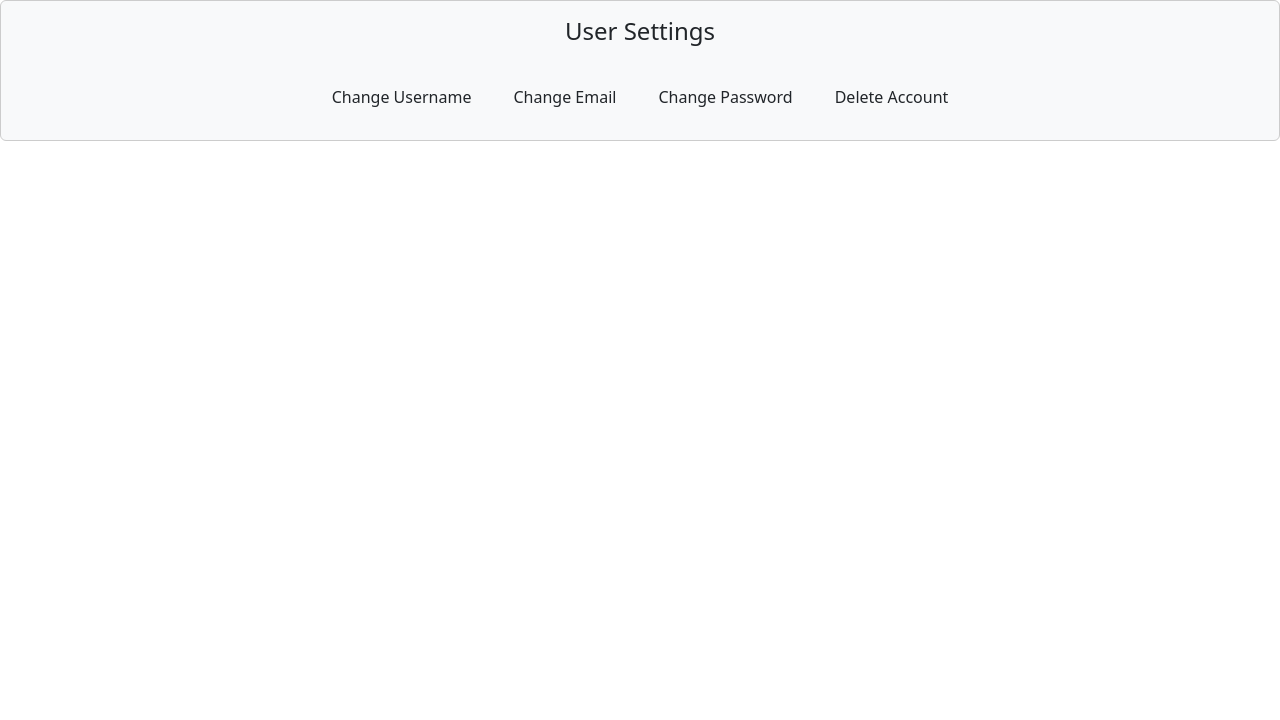
Test: SettingsTable Component › shows error message for invalid email
This screenshot has width=1280, height=720.
Click the button "Change Email" at [565, 97], box [500,78,629,116]
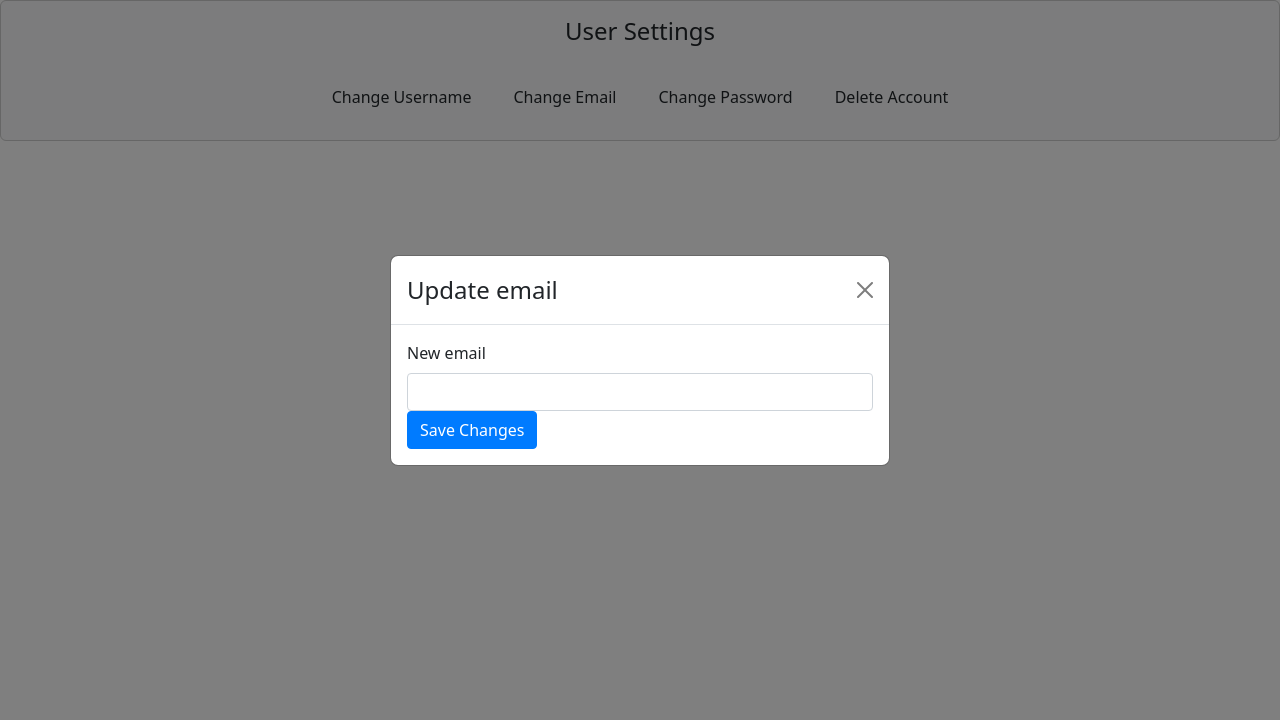
Type "invalid-email" into the field labelled "New email" at [640, 392], box [407,372,873,410]
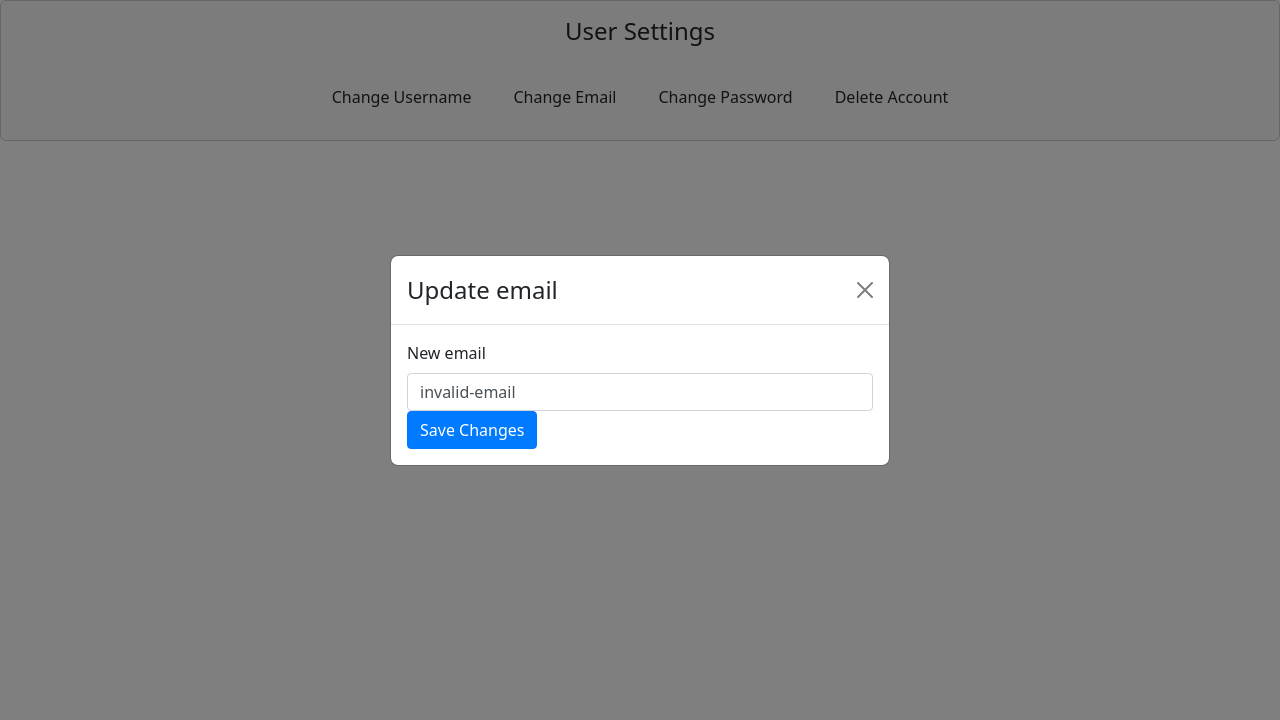
Click the button "Save Changes" at [472, 430], box [407,410,538,448]
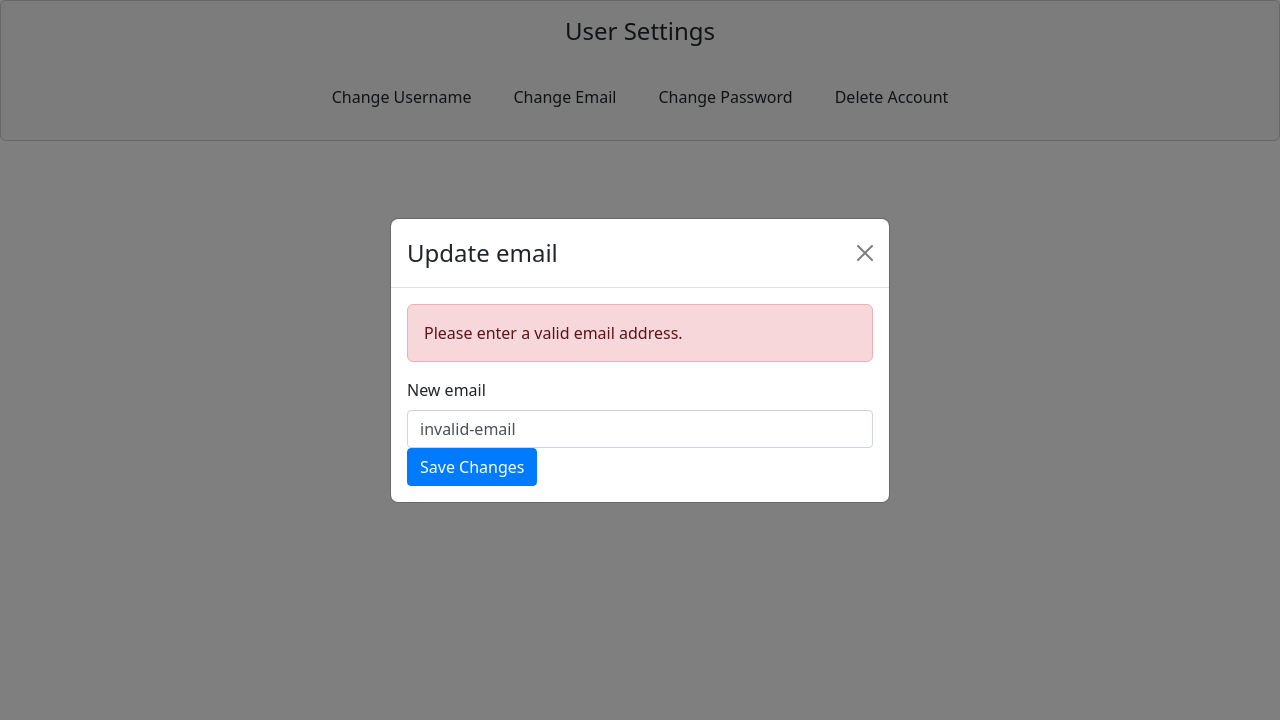
Check: the text "Please enter a valid email address." is shown, box [407,304,873,362]
